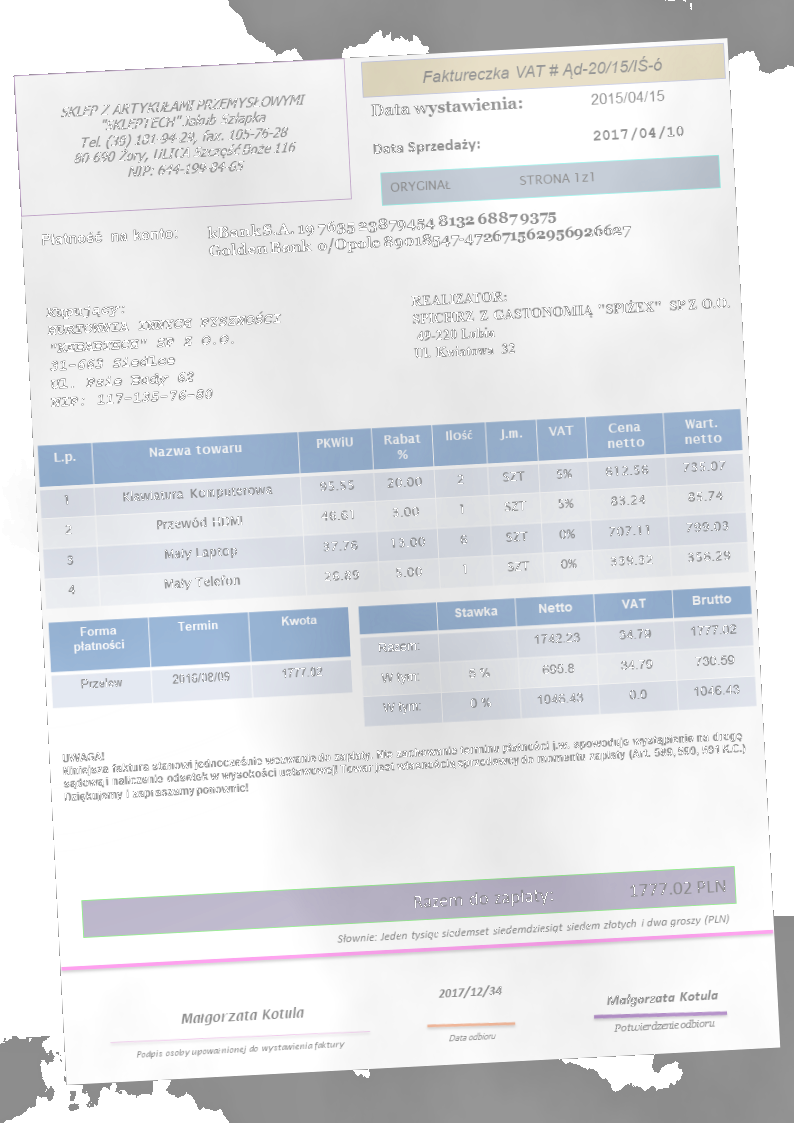Table: (35, 405, 751, 612), (354, 583, 758, 730), (47, 605, 354, 709)
TextBox: (58, 712, 750, 807), (40, 289, 288, 411), (406, 274, 736, 363), (203, 199, 635, 262), (55, 84, 313, 188), (333, 909, 736, 947), (408, 871, 728, 913), (417, 51, 669, 87), (387, 166, 598, 198), (130, 1036, 349, 1063), (367, 89, 528, 121), (34, 223, 183, 252), (177, 998, 309, 1029), (367, 132, 487, 161), (600, 984, 724, 1010), (589, 119, 689, 146), (585, 82, 667, 111), (608, 1016, 719, 1037), (434, 981, 505, 1002), (444, 1028, 500, 1048)
